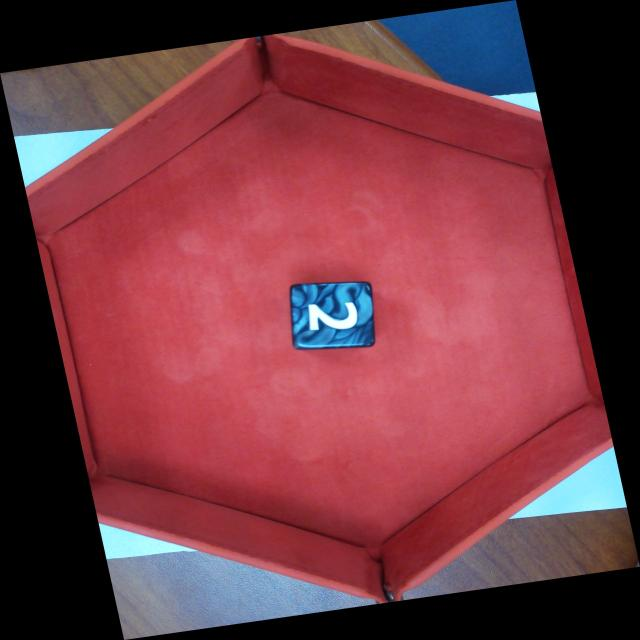dice: (289, 282, 375, 353)
